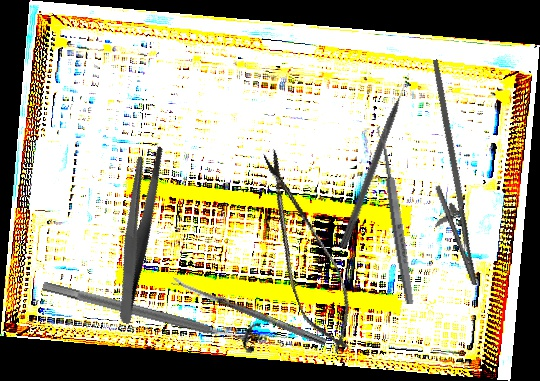Dressing Forceps: (74, 140, 201, 326)
Fixation Ring: (39, 268, 261, 356)
Micro Scissor: (242, 141, 368, 363)
Needle Holder: (388, 58, 505, 292)
Pusher: (338, 71, 415, 251)
Surgical Spoon: (170, 276, 328, 346), (375, 125, 417, 305)
